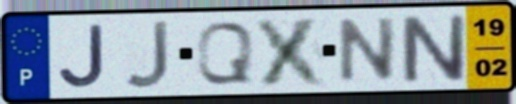J: (121, 18, 172, 91), (55, 22, 108, 91)
N: (397, 12, 470, 85), (336, 15, 400, 85)
Q: (194, 20, 257, 87)
X: (252, 14, 332, 88)
